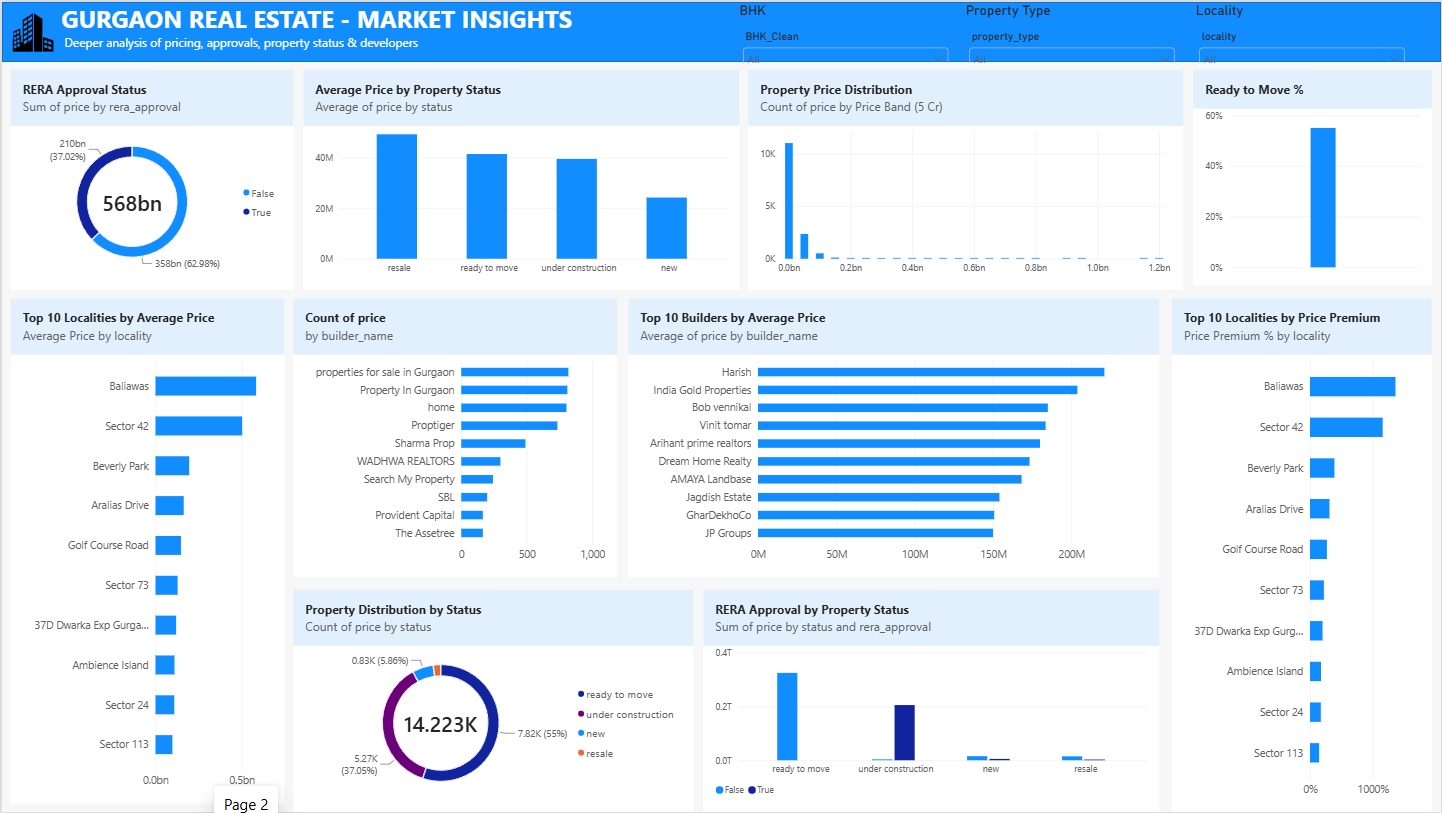

What the dashboard file says about the page in this screenshot:
{"tool":"powerbi","page":{"name":"Page 2","canvas":[1920,1080],"ordinal":1},"visuals":[{"type":"shape","box":[0,0,1920,80],"z":0},{"type":"textbox","box":[0,0,1920,80],"z":1},{"type":"donutChart","title":"RERA Approval Status","fields":{"Category":["gurgaon_real_estate_cleaned.rera_approval"],"Y":["Sum(gurgaon_real_estate_cleaned.price)"]},"box":[11.7,90,376.7,293.3],"z":2},{"type":"clusteredColumnChart","title":"Average Price by Property Status","fields":{"Category":["gurgaon_real_estate_cleaned.status"],"Y":["Avg(gurgaon_real_estate_cleaned.price)"]},"box":[401.7,90,581.7,293.3],"z":3},{"type":"clusteredBarChart","fields":{"Category":["gurgaon_real_estate_cleaned.builder_name"],"Y":["CountNonNull(gurgaon_real_estate_cleaned.price)"]},"box":[388.3,395,431.7,371.7],"z":4},{"type":"donutChart","title":"Property Distribution by Status","fields":{"Category":["gurgaon_real_estate_cleaned.status"],"Y":["CountNonNull(gurgaon_real_estate_cleaned.price)"]},"box":[388.3,783.3,533.3,296.7],"z":5},{"type":"clusteredBarChart","title":"Top 10 Builders by Average Price ","fields":{"Category":["gurgaon_real_estate_cleaned.builder_name"],"Y":["Avg(gurgaon_real_estate_cleaned.price)"]},"box":[835,395,708.3,371.7],"z":6},{"type":"clusteredColumnChart","title":"RERA Approval by Property Status","fields":{"Category":["gurgaon_real_estate_cleaned.status"],"Series":["gurgaon_real_estate_cleaned.rera_approval"],"Y":["Sum(gurgaon_real_estate_cleaned.price)"]},"box":[935,783.3,608.3,296.7],"z":7},{"type":"clusteredColumnChart","title":"Property Price Distribution","fields":{"Category":["gurgaon_real_estate_cleaned.Price Band (5 Cr)"],"Y":["CountNonNull(gurgaon_real_estate_cleaned.price)"]},"box":[995,90,580,293.3],"z":8},{"type":"clusteredColumnChart","fields":{"Y":["gurgaon_real_estate_cleaned.Ready to Move %"]},"box":[1588.3,90,318.3,288.3],"z":9},{"type":"clusteredBarChart","title":"Top 10 Localities by Average Price","fields":{"Category":["gurgaon_real_estate_cleaned.locality"],"Y":["gurgaon_real_estate_cleaned.Average Price"]},"box":[11.7,395,365,673.3],"z":10},{"type":"clusteredBarChart","title":"Top 10 Localities by Price Premium ","fields":{"Category":["gurgaon_real_estate_cleaned.locality"],"Y":["gurgaon_real_estate_cleaned.Price Premium %"]},"box":[1560,395,346.7,685],"z":11},{"type":"image","box":[11.7,8.3,60,63.3],"z":12},{"type":"slicer","title":"BHK","fields":{"Values":["gurgaon_real_estate_cleaned.BHK_Clean"]},"box":[983.3,0,283.3,81.7],"z":13},{"type":"slicer","title":"Property Type","fields":{"Values":["gurgaon_real_estate_cleaned.property_type"]},"box":[1285,0,283.3,81.7],"z":14},{"type":"slicer","title":"Locality","fields":{"Values":["gurgaon_real_estate_cleaned.locality"]},"box":[1591.7,0,283.3,81.7],"z":15}]}

Visuals, with their boxes in screenshot pixels (x1, y1, x2, y2), scaled from the page's 1920x1080 canvas onto the 1442x813 screenshot:
shape: BBox(0, 0, 1441, 60)
textbox: BBox(0, 0, 1441, 60)
"RERA Approval Status" donutChart: BBox(9, 68, 292, 289)
"Average Price by Property Status" clusteredColumnChart: BBox(302, 68, 739, 289)
clusteredBarChart - gurgaon_real_estate_cleaned.builder_name x CountNonNull(gurgaon_real_estate_cleaned.price): BBox(292, 297, 616, 577)
"Property Distribution by Status" donutChart: BBox(292, 590, 692, 812)
"Top 10 Builders by Average Price " clusteredBarChart: BBox(627, 297, 1159, 577)
"RERA Approval by Property Status" clusteredColumnChart: BBox(702, 590, 1159, 812)
"Property Price Distribution" clusteredColumnChart: BBox(747, 68, 1183, 289)
clusteredColumnChart - gurgaon_real_estate_cleaned.Ready to Move %: BBox(1193, 68, 1432, 285)
"Top 10 Localities by Average Price" clusteredBarChart: BBox(9, 297, 283, 804)
"Top 10 Localities by Price Premium " clusteredBarChart: BBox(1172, 297, 1432, 812)
image: BBox(9, 6, 54, 54)
"BHK" slicer: BBox(738, 0, 951, 62)
"Property Type" slicer: BBox(965, 0, 1178, 62)
"Locality" slicer: BBox(1195, 0, 1408, 62)
